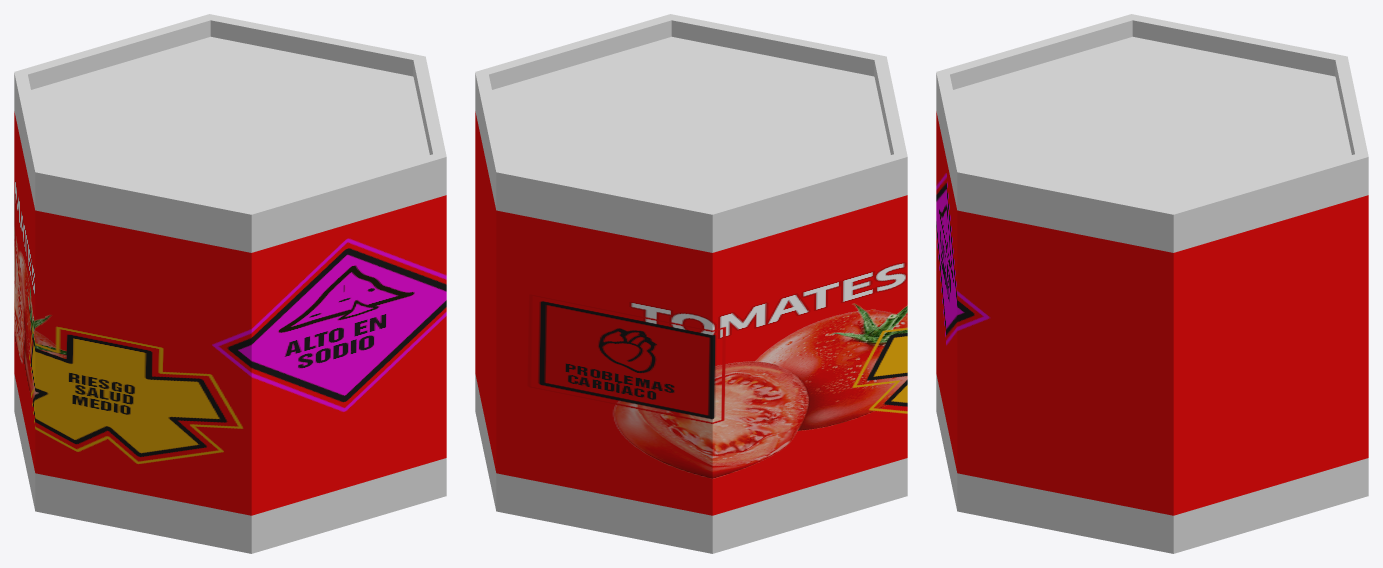
Rendered from tomateLata.fbx.
The picture shows the model from 3 angles, left to right: view 1: azimuth 30°, elevation 25°; view 2: azimuth 150°, elevation 25°; view 3: azimuth 270°, elevation 25°; orthographic projection.
Parts seen in each view (by area): view 1: Arvejas; view 2: Arvejas; view 3: Arvejas.
Part boxes in pixels (left/top/right/bottom): Arvejas: left=14, top=14, right=446, bottom=553; Arvejas: left=475, top=14, right=907, bottom=553; Arvejas: left=936, top=14, right=1368, bottom=553.
Size of the model in its own units: 5.52 by 4.35 by 5.02.
Materials: 2 (1 with a texture image).
